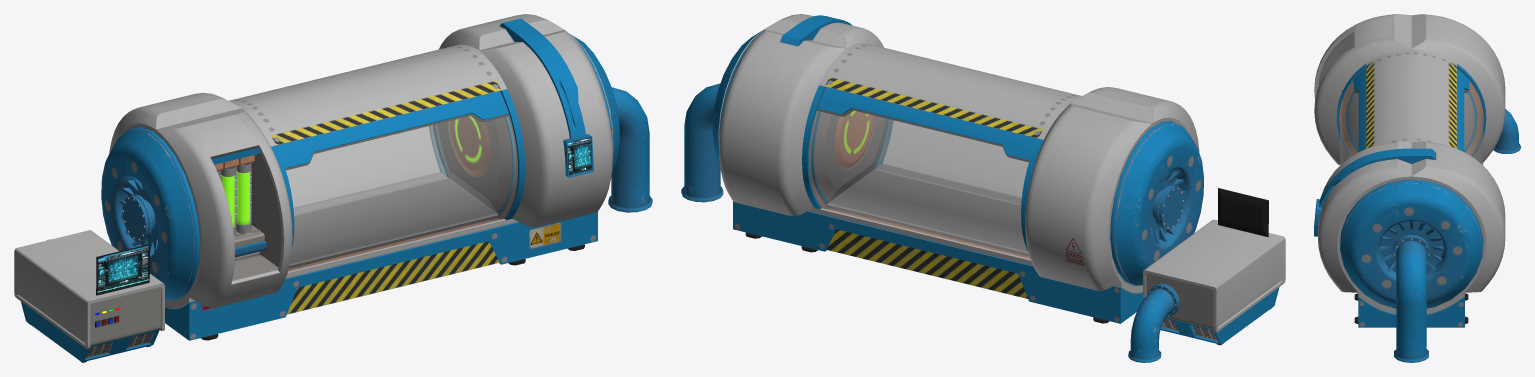
Rendered from CultivaterCell.fbx.
3 views of the same model, side by side, from view 1: azimuth 30°, elevation 25°; view 2: azimuth 150°, elevation 25°; view 3: azimuth 270°, elevation 25° (orthographic). The views are drawn at different scales.
Visible parts, largest first — view 1: CultivaterCell1, CultivaterGlass; view 2: CultivaterCell1, CultivaterGlass; view 3: CultivaterCell1, CultivaterGlass.
Part boxes in pixels (x1,y1,x2,y2): CultivaterCell1: [14, 14, 652, 362]; CultivaterGlass: [285, 113, 517, 271]; CultivaterCell1: [681, 14, 1285, 362]; CultivaterGlass: [809, 108, 1029, 258]; CultivaterCell1: [1314, 14, 1520, 362]; CultivaterGlass: [1340, 81, 1483, 165].
Bounding box in the file's own units: 675 × 215 × 250.
